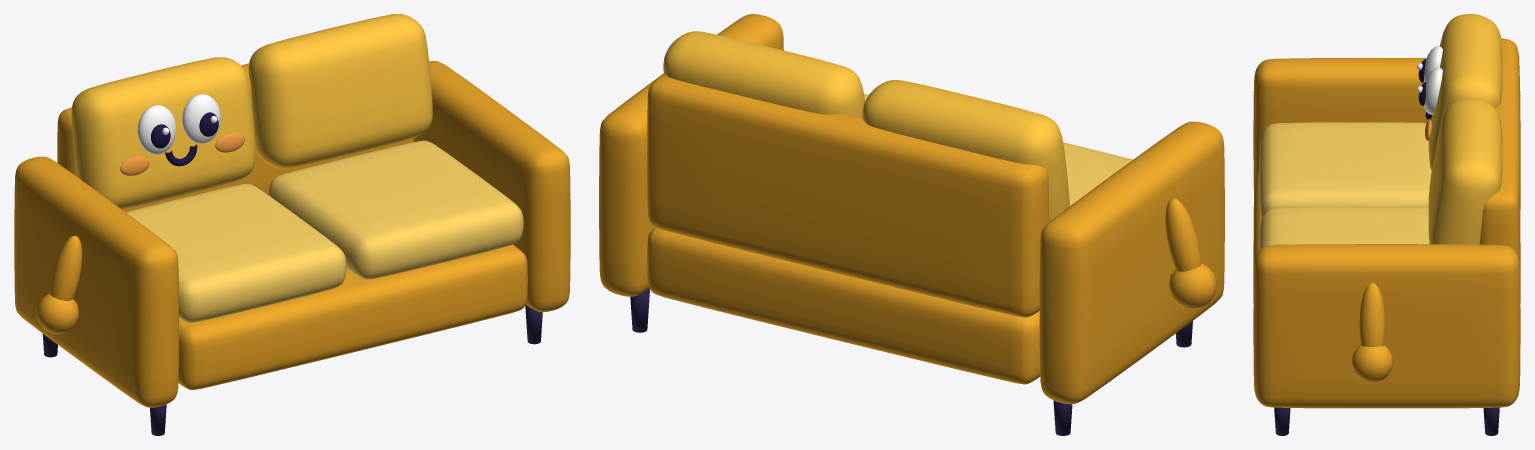
The model's file is sofa-2.glb.
3 views of the same model, side by side, from view 1: azimuth 30°, elevation 25°; view 2: azimuth 150°, elevation 25°; view 3: azimuth 270°, elevation 25° (orthographic). The views are drawn at different scales.
Visible parts, largest first — view 1: Подлокотник, Основание, Подушка спинки.001, Подушка сиденья.001, Подушка сиденья, Подушка спинки, Подлокотник.001, Спинка, Рука L, Ладошка L, Белок R, Белок L (+1 smaller); view 2: Спинка, Подлокотник, Основание, Подушка спинки, Подлокотник.001, Подушка спинки.001, Подушка сиденья, Рука L, Ладошка L, Ножка.003; view 3: Подлокотник.001, Подушка сиденья, Подлокотник, Подушка спинки.001, Подушка сиденья.001, Подушка спинки, Спинка, Рука R, Ладошка R, Основание, Белок R, Ножка.002 (+2 smaller).
Boxes of the visible parts, bbox=[...] form: Подлокотник: bbox=[14, 156, 178, 407]; Основание: bbox=[178, 244, 527, 390]; Подушка спинки.001: bbox=[248, 14, 432, 168]; Подушка сиденья.001: bbox=[268, 140, 523, 279]; Подушка сиденья: bbox=[126, 183, 346, 322]; Подушка спинки: bbox=[71, 57, 255, 209]; Подлокотник.001: bbox=[414, 61, 570, 312]; Спинка: bbox=[57, 63, 414, 211]; Рука L: bbox=[50, 235, 82, 300]; Ладошка L: bbox=[36, 293, 78, 334]; Белок R: bbox=[182, 94, 220, 143]; Белок L: bbox=[137, 105, 176, 154]; Спинка: bbox=[647, 74, 1048, 317]; Подлокотник: bbox=[1039, 121, 1224, 404]; Основание: bbox=[647, 227, 1040, 384]; Подушка спинки: bbox=[862, 80, 1069, 221]; Подлокотник.001: bbox=[599, 14, 783, 296]; Подушка спинки.001: bbox=[663, 31, 865, 117]; Подушка сиденья: bbox=[1063, 142, 1132, 205]; Рука L: bbox=[1165, 198, 1201, 271]; Ладошка L: bbox=[1169, 263, 1216, 309]; Ножка.003: bbox=[630, 288, 649, 332]; Подлокотник.001: bbox=[1253, 244, 1520, 408]; Подушка сиденья: bbox=[1259, 122, 1431, 219]; Подлокотник: bbox=[1253, 58, 1520, 191]; Подушка спинки.001: bbox=[1428, 98, 1502, 244]; Подушка сиденья.001: bbox=[1259, 206, 1429, 249]; Подушка спинки: bbox=[1428, 14, 1502, 170]; Спинка: bbox=[1479, 38, 1520, 269]; Рука R: bbox=[1359, 282, 1385, 346]; Ладошка R: bbox=[1351, 345, 1393, 382]; Основание: bbox=[1253, 170, 1520, 302]; Белок R: bbox=[1424, 67, 1442, 114]; Ножка.002: bbox=[1274, 407, 1290, 435].
Size of the model in its own units: 2.02 by 0.9774 by 0.9192.
